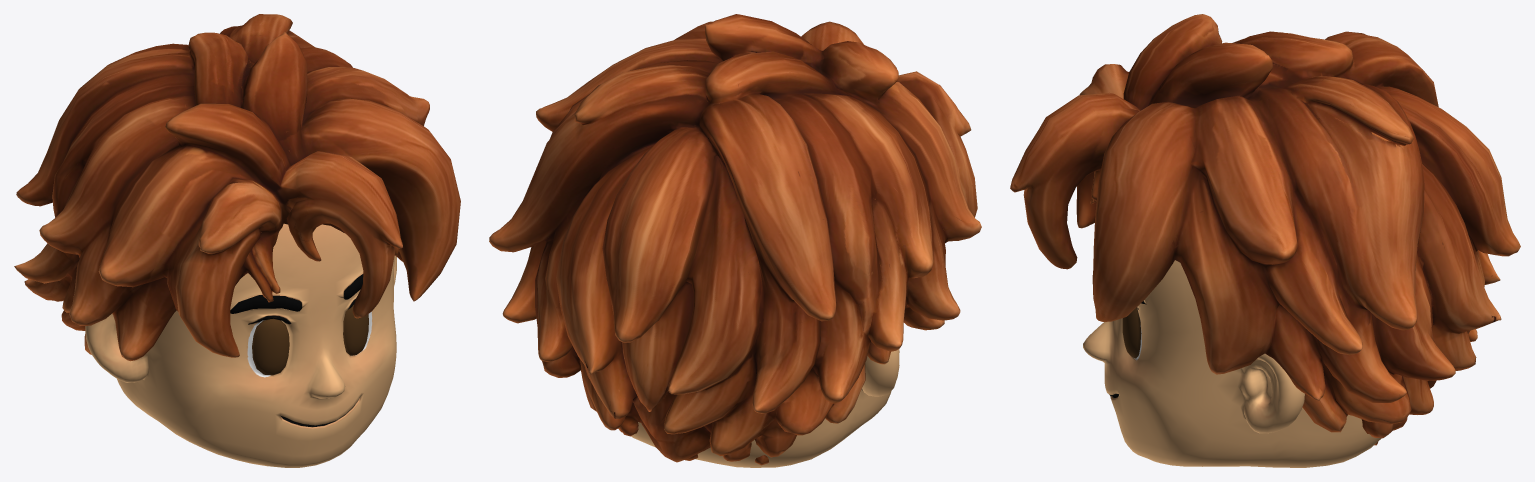
The model's file is Hair.glb.
3 views of the same model, side by side, from view 1: azimuth 30°, elevation 25°; view 2: azimuth 150°, elevation 25°; view 3: azimuth 270°, elevation 25° (orthographic). The views are drawn at different scales.
Parts seen in each view (by area): view 1: Hair_low; view 2: Hair_low; view 3: Hair_low.
Boxes of the visible parts, <box> form: Hair_low: <box>14,14,460,467</box>; Hair_low: <box>489,14,981,467</box>; Hair_low: <box>1010,14,1520,467</box>.
Bounding box in the file's own units: 0.4064 × 0.3896 × 0.4442.
2 materials, 2 textured.
